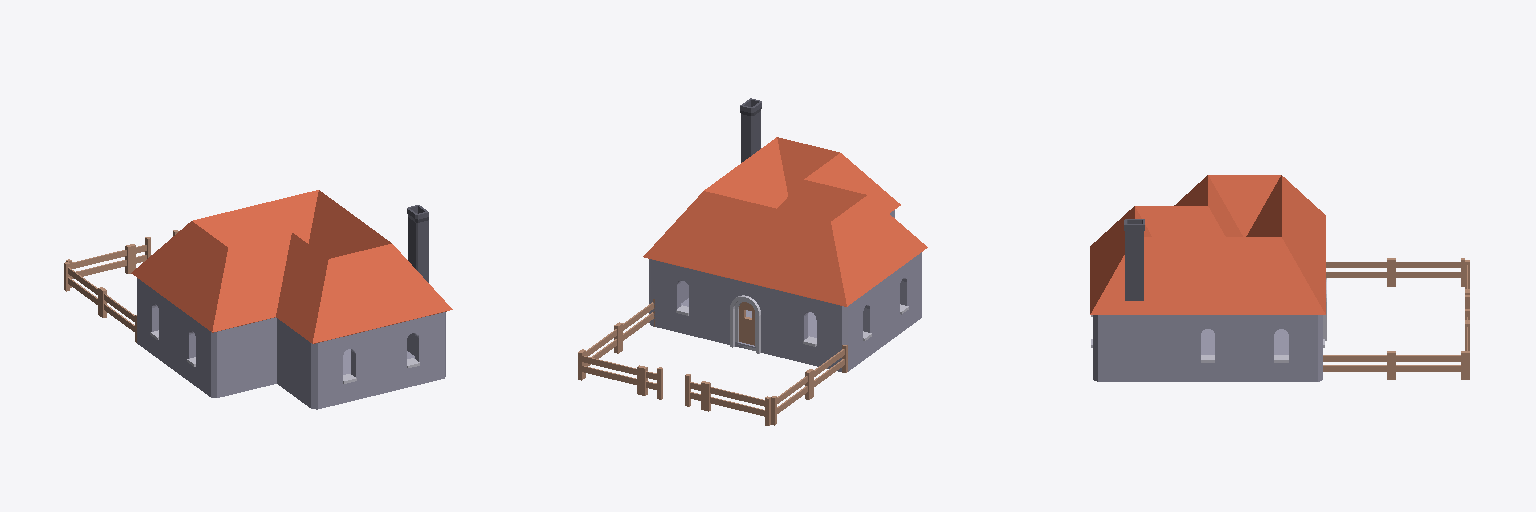
File: House_1.obj
The picture shows the model from 3 angles: view 1: azimuth 30°, elevation 25°; view 2: azimuth 150°, elevation 25°; view 3: azimuth 270°, elevation 25°; orthographic projection.
Parts seen in each view (by area): view 1: roof_corner_72, roof_corner_70, wall_corner_82, wall_windowRound_42, roof_corner_73, wall_windowRound_75, roof_corner_69, wall_windowRound_38, roof_straight_68, wall_windowRound_77, roof_straight_74, roof_corner_71 (+6 smaller); view 2: roof_corner_69, roof_straight_68, roof_corner_67, wall_windowRound_80, roof_corner_70, wall_windowRound_78, wall_doorwayRound_41, wall_windowRound_77, roof_corner_72, wall_windowRound_38, roof_straight_74, roof_corner_71 (+11 smaller); view 3: roof_corner_67, roof_straight_74, wall_straight_76, wall_windowRound_79, roof_corner_73, wall_windowRound_81, roof_corner_69, roof_corner_71, roof_straight_68, roof_corner_72, roof_corner_70, fence_wood_84 (+5 smaller).
Boxes of the visible parts, x1,y1,x2,y2 form: roof_corner_72: [276, 244, 385, 343]; roof_corner_70: [174, 234, 279, 332]; wall_corner_82: [217, 317, 317, 403]; wall_windowRound_42: [311, 328, 380, 409]; roof_corner_73: [357, 232, 452, 327]; wall_windowRound_75: [381, 312, 445, 392]; roof_corner_69: [131, 213, 230, 303]; wall_windowRound_38: [174, 305, 216, 397]; roof_straight_68: [220, 198, 303, 246]; wall_windowRound_77: [137, 278, 173, 368]; roof_straight_74: [310, 202, 375, 258]; roof_corner_71: [257, 232, 307, 305]; roof_corner_69: [774, 210, 884, 306]; roof_straight_68: [709, 198, 802, 290]; roof_corner_67: [643, 176, 738, 275]; wall_windowRound_80: [651, 259, 714, 340]; roof_corner_70: [828, 186, 927, 278]; wall_windowRound_78: [778, 290, 841, 371]; wall_doorwayRound_41: [715, 275, 777, 356]; wall_windowRound_77: [842, 279, 884, 368]; roof_corner_72: [790, 144, 900, 213]; wall_windowRound_38: [885, 252, 921, 343]; roof_straight_74: [723, 152, 787, 208]; roof_corner_71: [777, 164, 837, 221]; roof_corner_67: [1240, 219, 1325, 314]; roof_straight_74: [1167, 237, 1248, 314]; wall_straight_76: [1098, 315, 1170, 381]; wall_windowRound_79: [1245, 315, 1322, 381]; roof_corner_73: [1090, 233, 1175, 314]; wall_windowRound_81: [1171, 315, 1244, 381]; roof_corner_69: [1240, 175, 1325, 250]; roof_corner_71: [1167, 189, 1242, 236]; roof_straight_68: [1246, 192, 1325, 277]; roof_corner_72: [1090, 206, 1175, 277]; roof_corner_70: [1174, 175, 1239, 229]; fence_wood_84: [1392, 351, 1464, 379].
Bounding box in the file's own units: 3.21 × 2.33 × 5.17.